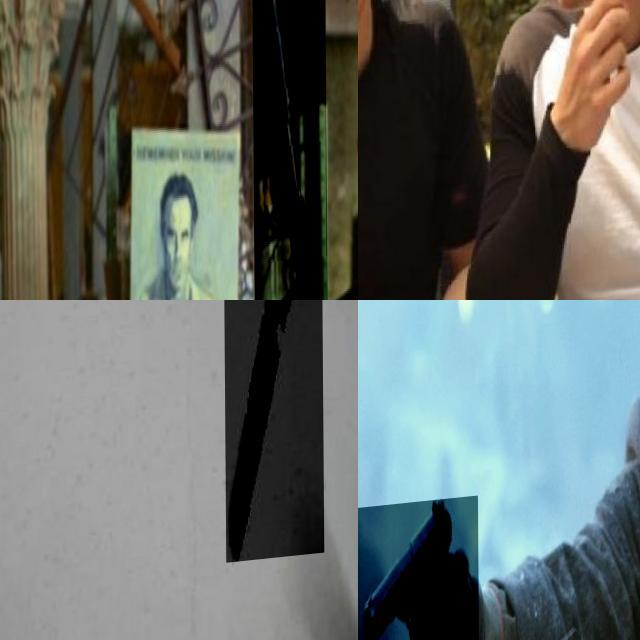-: (223, 300, 323, 570)
gun-knife-thesis - v11 Yolov5 augmented: (252, 0, 327, 300), (358, 499, 478, 640)
